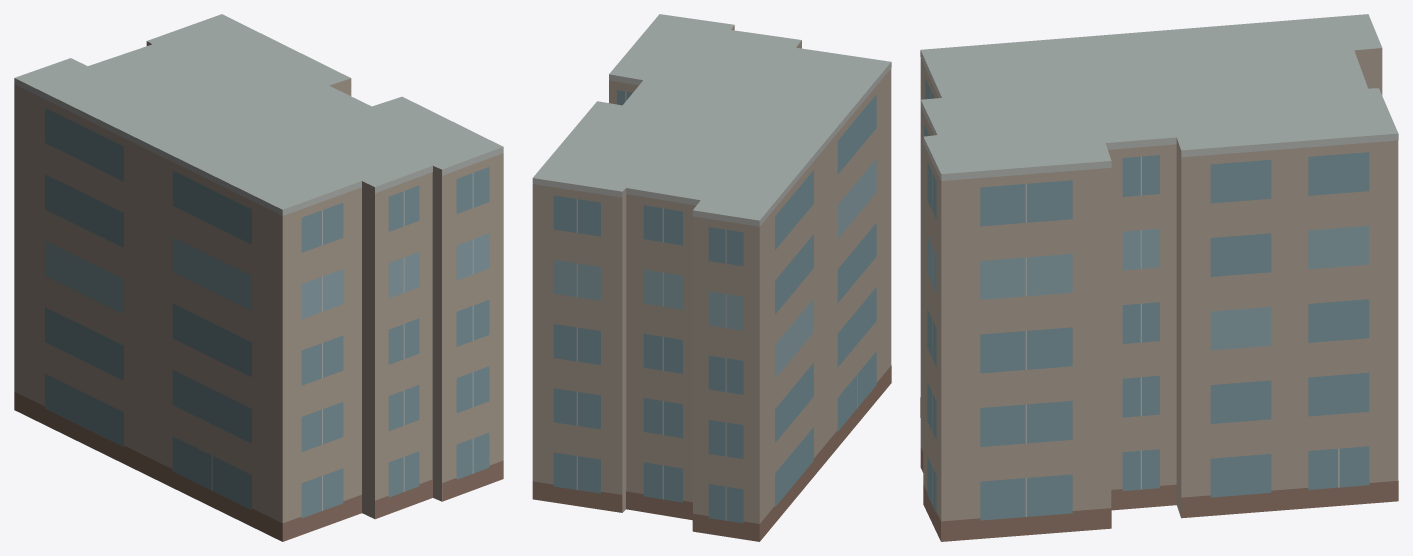
The model's file is survey-upis-32948641.glb.
3 renders of one model, left to right at view 1: azimuth 30°, elevation 25°; view 2: azimuth 150°, elevation 25°; view 3: azimuth 270°, elevation 25°, orthographic. The views are drawn at different scales.
Visible parts, largest first — view 1: survey-upis-32948641.tmp; view 2: survey-upis-32948641.tmp; view 3: survey-upis-32948641.tmp.
Boxes of the visible parts, x1,y1,x2,y2 form: survey-upis-32948641.tmp: (14, 14, 503, 541); survey-upis-32948641.tmp: (532, 14, 891, 541); survey-upis-32948641.tmp: (920, 14, 1398, 541).
Bounding box in the file's own units: 12.15 × 13 × 15.33.
